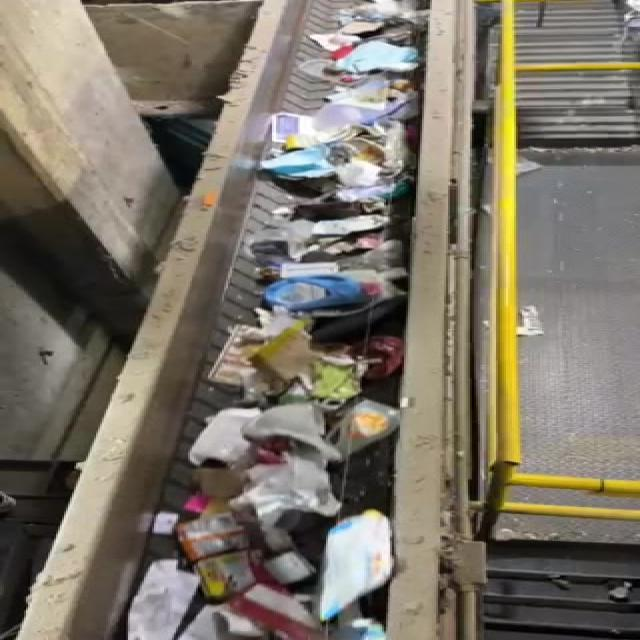hdpe: (315, 510, 397, 628), (323, 385, 407, 473)
pp: (143, 505, 266, 592)
ps: (192, 402, 272, 474)
